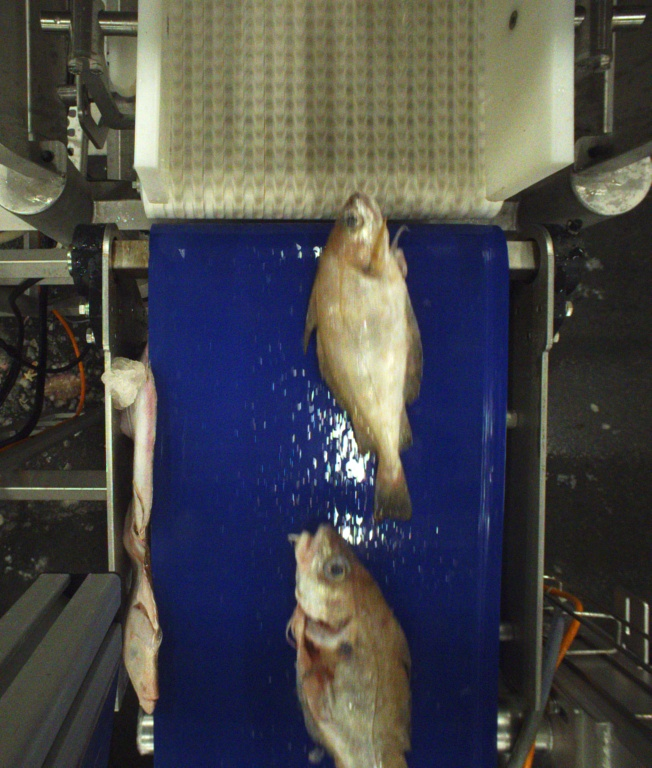BIB: (302, 192, 418, 525)
